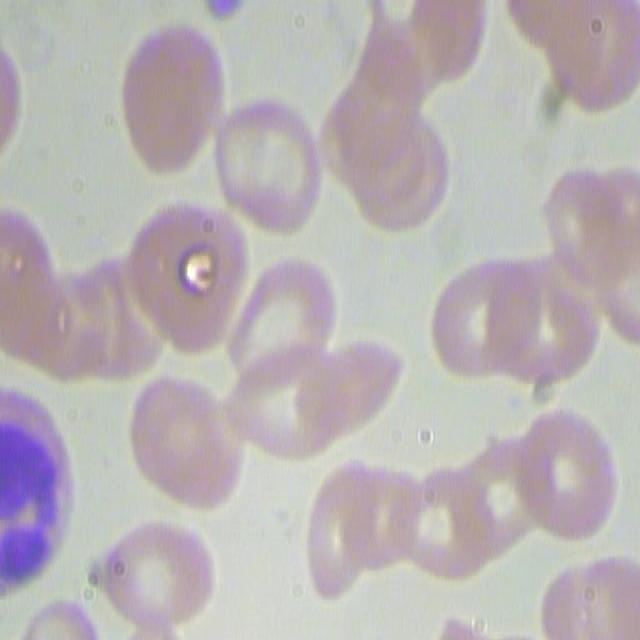RBC: (321, 14, 451, 242), (225, 242, 336, 468), (124, 193, 251, 367), (117, 18, 222, 179), (83, 510, 213, 638), (213, 96, 327, 240), (129, 369, 245, 510), (514, 397, 620, 544), (429, 257, 543, 392), (299, 459, 406, 598), (382, 463, 499, 585), (538, 157, 637, 294), (0, 200, 70, 385), (532, 2, 638, 114), (534, 548, 637, 638)
WBC: (0, 367, 76, 600)
platelets: (199, 0, 248, 30)
